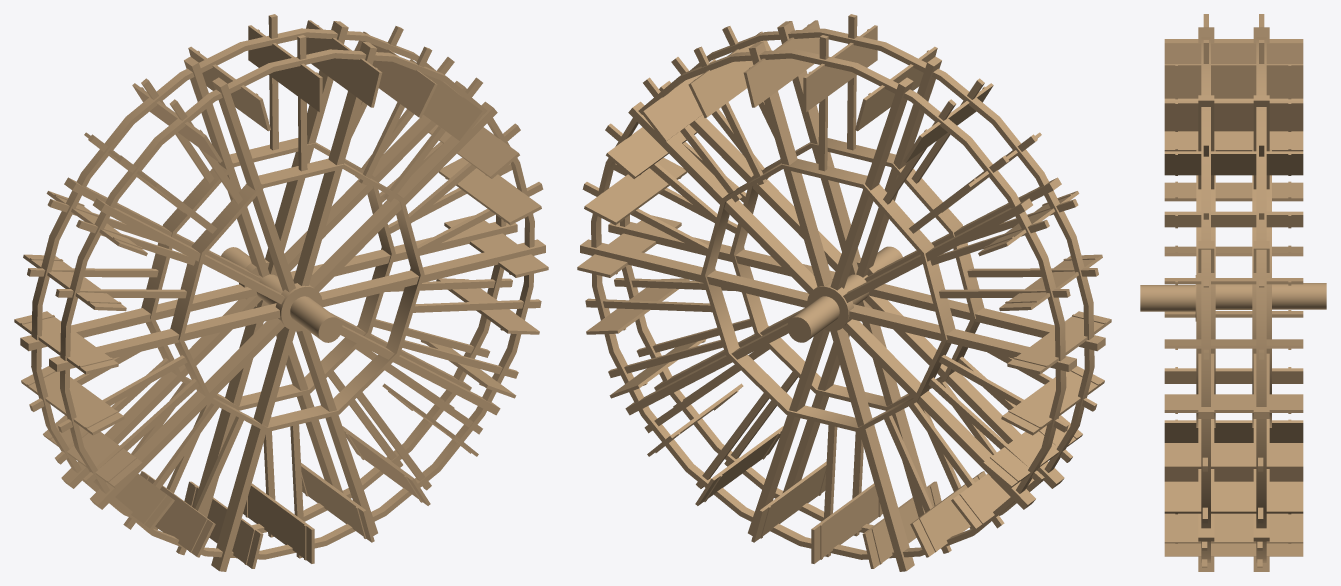
File: waterwheel.glb
3 renders of one model, left to right at view 1: azimuth 30°, elevation 25°; view 2: azimuth 150°, elevation 25°; view 3: azimuth 270°, elevation 25°, orthographic. The views are drawn at different scales.
Parts seen in each view (by area): view 1: 组件_10, 组件_5, 组件_7_2, 组件_6_10, 组件_6_5, 组件_7, 组件_6_9, 组件_6_7, 组件_6_3, 组件_6_4, 组件_6_2, 组件_6 (+49 smaller); view 2: 组件_5, 组件_10, 组件_7, 组件_6_3, 组件_6_2, 组件_7_2, 组件_6_4, 组件_6, 组件_6_10, 组件_6_9, 组件_6_5, 组件_6_7 (+49 smaller); view 3: 组件_5, 组件_10, 多边形_13, 多边形_30, 多边形_28, 多边形_3, 多边形_14, 多边形_2, 多边形_16, 多边形_22, 多边形_11, 多边形_15 (+24 smaller).
Part boxes in pixels (x1,y1,x2,y2): 组件_10: (60, 49, 534, 559); 组件_5: (31, 28, 506, 532); 组件_7_2: (170, 158, 424, 432); 组件_6_10: (90, 101, 497, 509); 组件_6_5: (211, 41, 377, 571); 组件_7: (141, 138, 395, 410); 组件_6_9: (49, 239, 545, 371); 组件_6_7: (212, 77, 377, 535); 组件_6_3: (61, 81, 466, 488); 组件_6_4: (20, 222, 517, 351); 组件_6_2: (193, 21, 348, 517); 组件_6: (184, 56, 343, 493); 组件_5: (591, 49, 1066, 559); 组件_10: (620, 28, 1094, 532); 组件_7: (701, 159, 955, 432); 组件_6_3: (628, 101, 1035, 509); 组件_6_2: (748, 41, 914, 571); 组件_7_2: (730, 138, 984, 410); 组件_6_4: (580, 239, 1076, 371); 组件_6: (748, 77, 913, 535); 组件_6_10: (659, 81, 1064, 488); 组件_6_9: (608, 222, 1105, 351); 组件_6_5: (777, 21, 931, 517); 组件_6_7: (782, 56, 941, 493); 组件_5: (1215, 37, 1326, 562); 组件_10: (1140, 37, 1210, 562); 多边形_13: (1164, 481, 1303, 513); 多边形_30: (1164, 64, 1303, 98); 多边形_28: (1164, 513, 1303, 543); 多边形_3: (1164, 101, 1303, 131); 多边形_14: (1164, 443, 1303, 468); 多边形_2: (1164, 151, 1303, 175); 多边形_16: (1164, 43, 1303, 63); 多边形_22: (1164, 420, 1303, 442); 多边形_11: (1164, 131, 1303, 151); 多边形_15: (1164, 394, 1303, 412).
Bounding box in the file's own units: 0.9747 × 0.989 × 0.3319.
